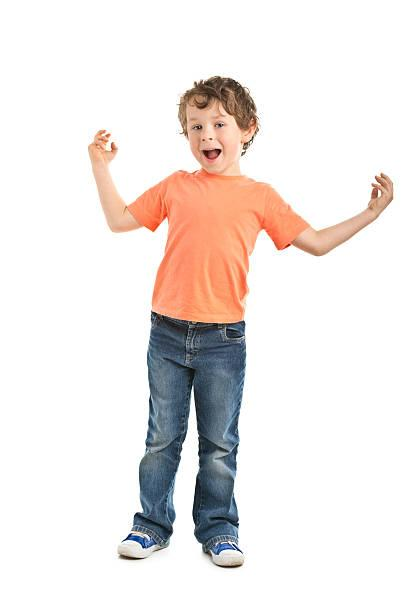Human: (84, 56, 373, 595)
